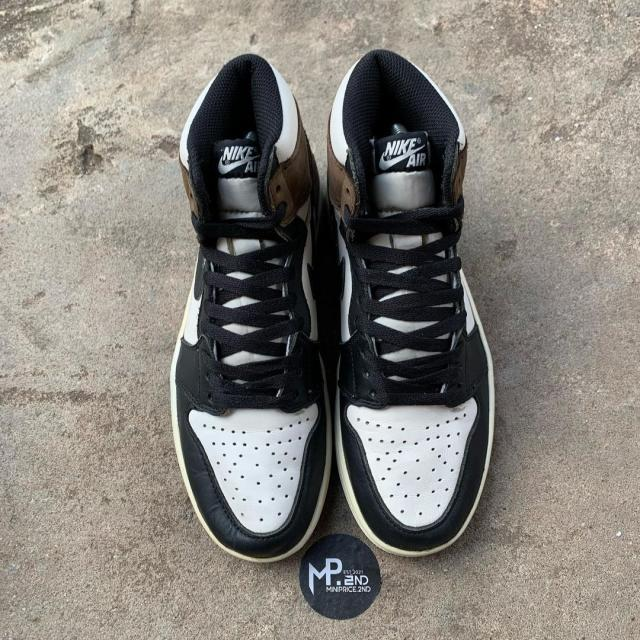nike original jordan 1: (323, 52, 496, 572), (168, 43, 329, 560)
